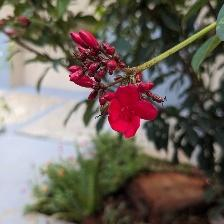jatropha: (105, 83, 161, 141)
